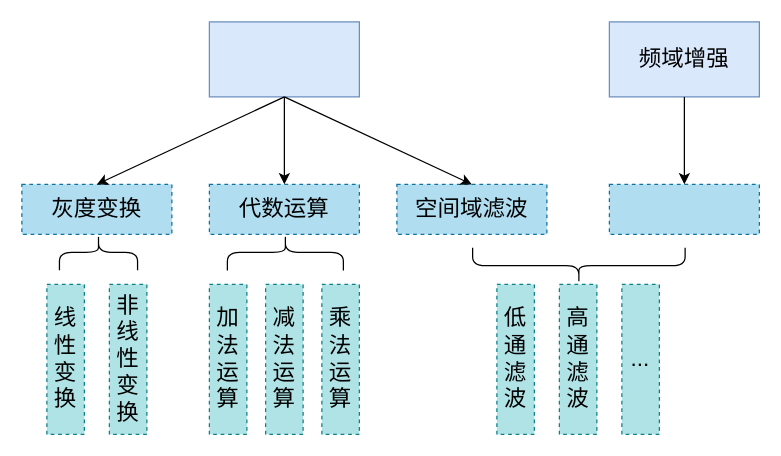
Image size: 781x456. Some labels were removed from this diagram. Here are the shapes that lost their labels. From the top down, the centre of each, then its label:
At point 283,59: "空间域增强".
At point 683,208: "频域滤波".
